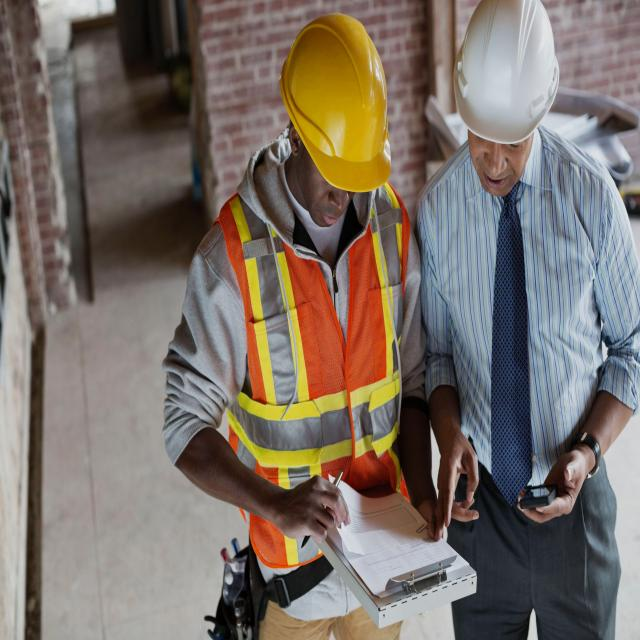face_nomask: (462, 126, 528, 204), (300, 158, 357, 229)
hand_noglove: (281, 472, 358, 558), (517, 454, 589, 531), (440, 437, 482, 539)
head_helmet: (280, 13, 394, 191), (451, 0, 563, 139)
person: (165, 0, 423, 640), (421, 4, 638, 639)
vest: (207, 198, 424, 568)
